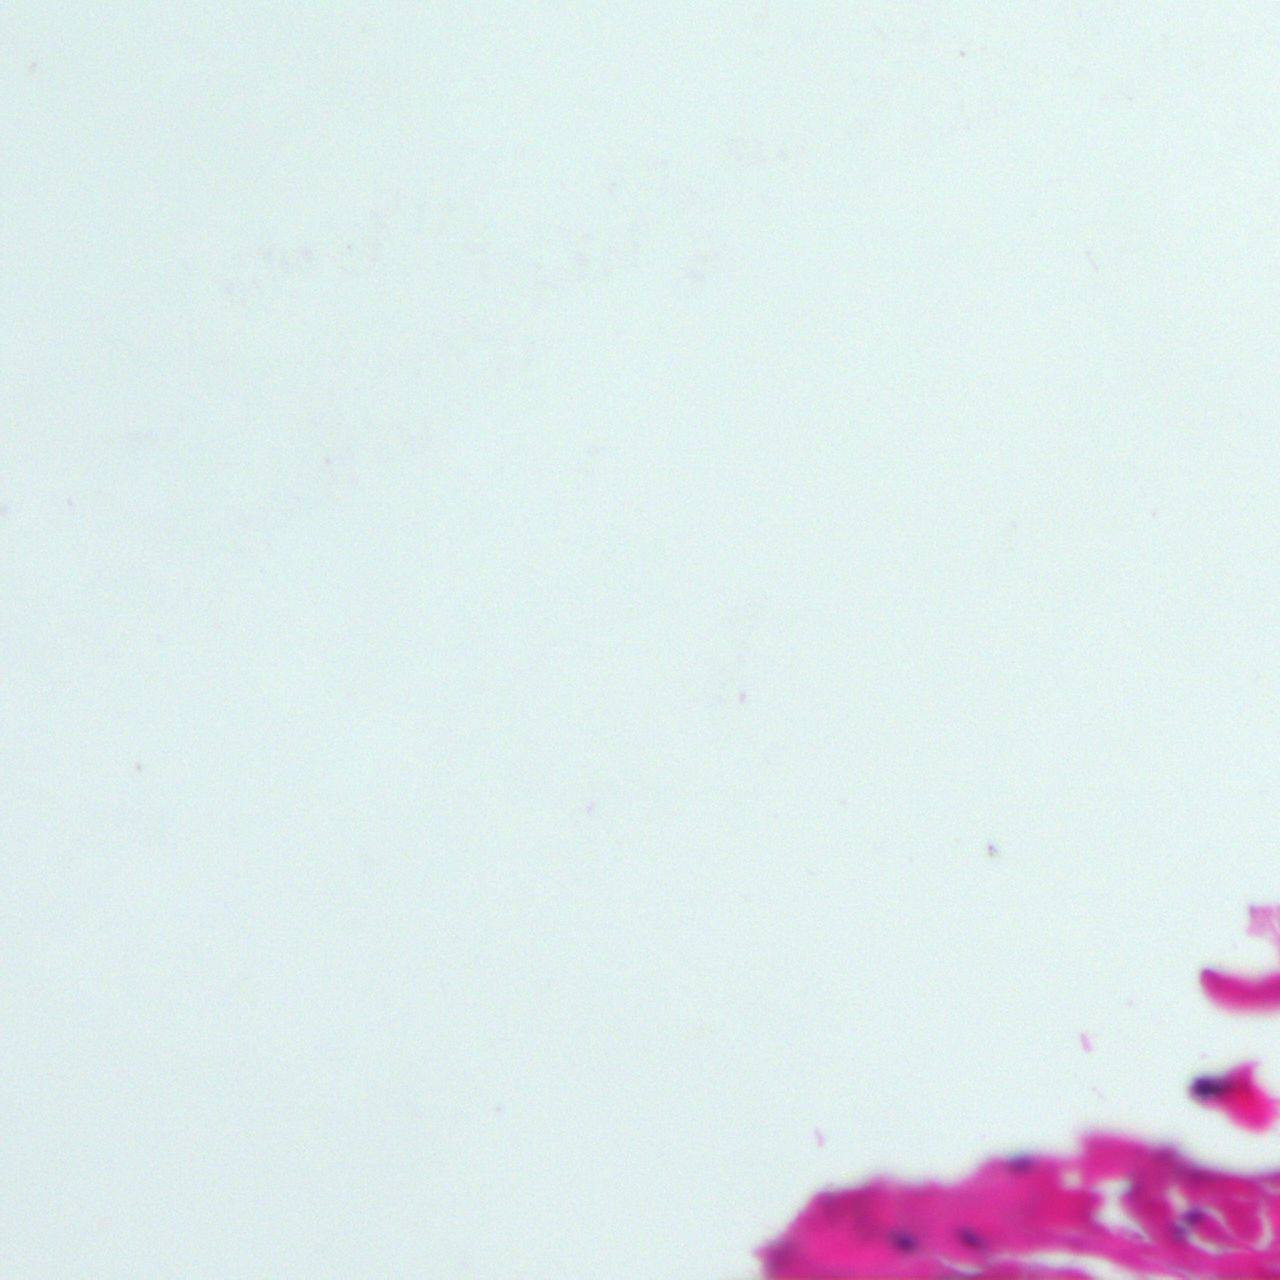nucleus-HE: (951, 1223, 988, 1254), (1192, 1075, 1223, 1102), (891, 1234, 917, 1252)
